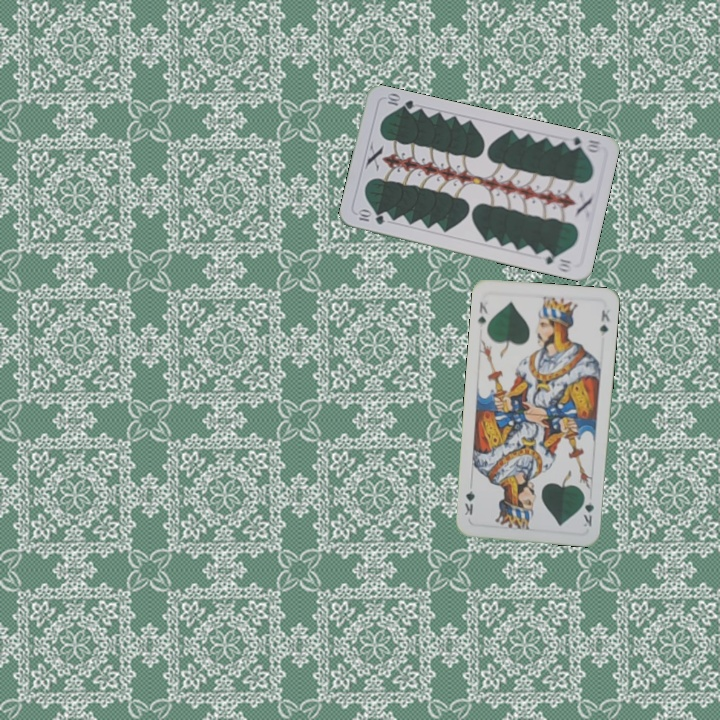G10: (562, 133, 604, 155), (353, 207, 387, 227)
GK: (579, 490, 597, 529), (474, 298, 490, 326)
